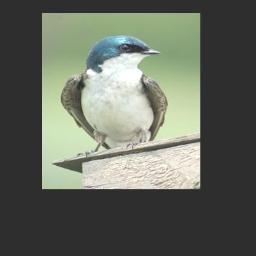Swallow: (61, 34, 169, 158)
